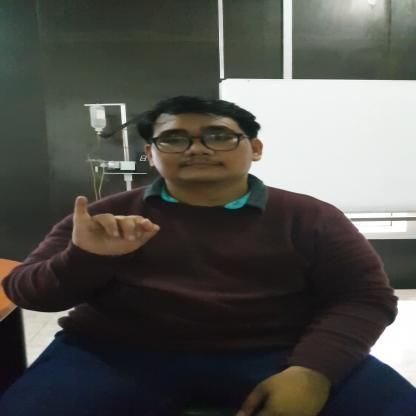I: (65, 193, 163, 257)
